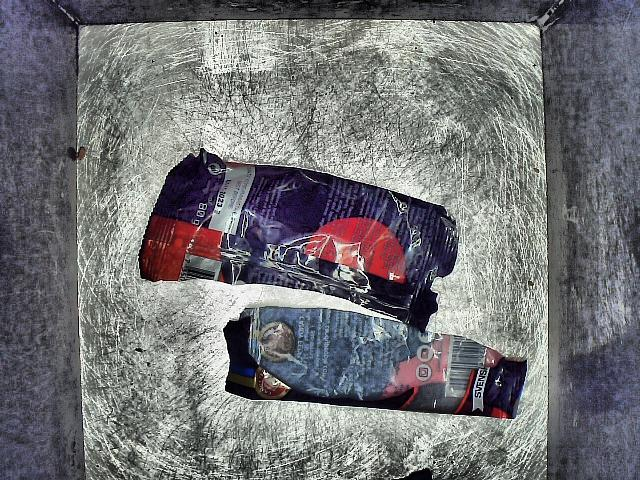Plastic: (151, 138, 455, 320), (217, 303, 530, 426)
